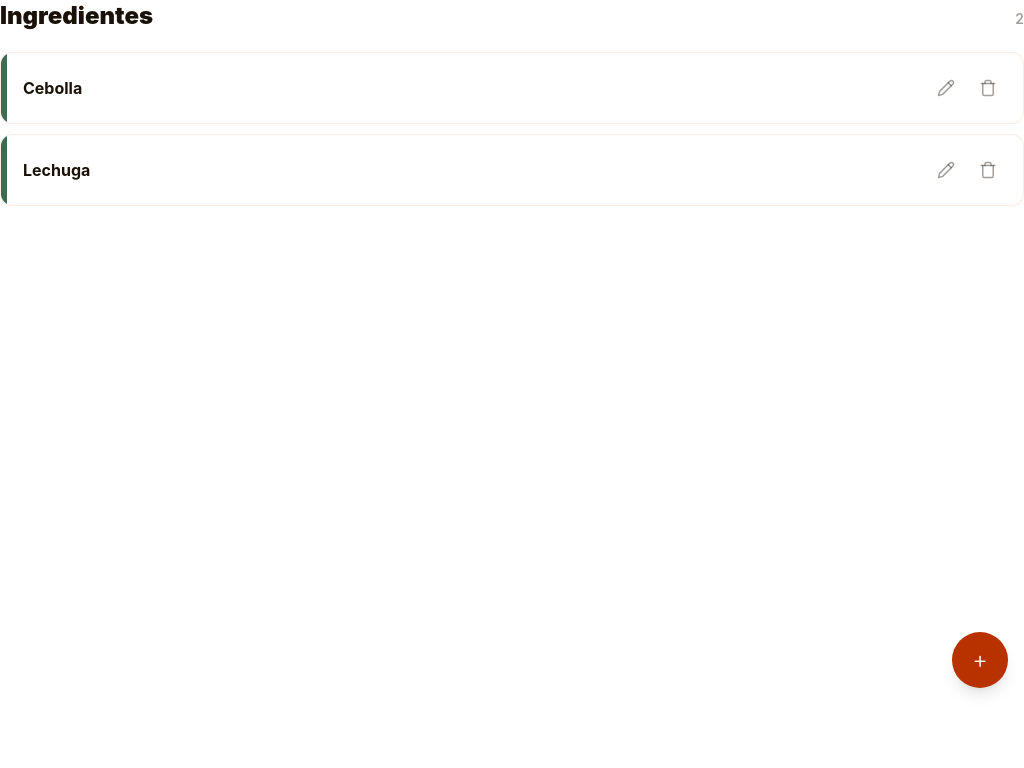
Test: IngredientsPage › closes dialog when cancel is clicked
The width and height of the screenshot is (1024, 768).
Check: the text "Cebolla" is shown, box [23,78,82,98]
Click the button named "Eliminar Cebolla".
click(988, 88)  # box [969,69,1007,107]
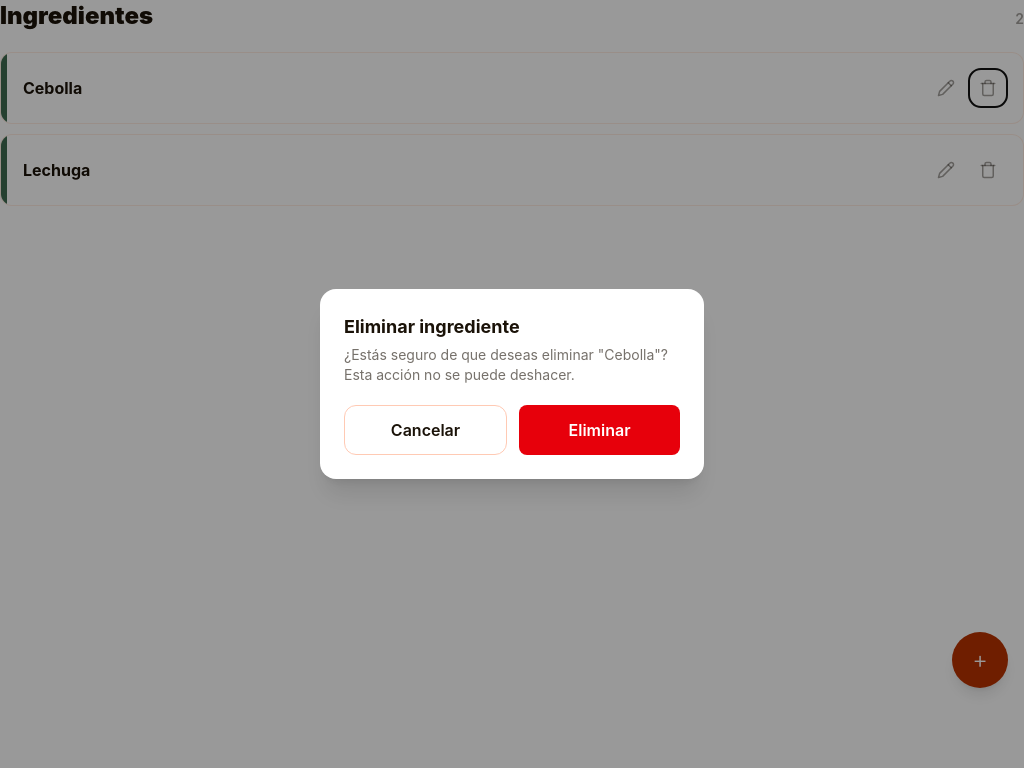
Check: the dialog is shown
Click the button "Cancelar".
click(426, 430)  # box [344,405,507,455]
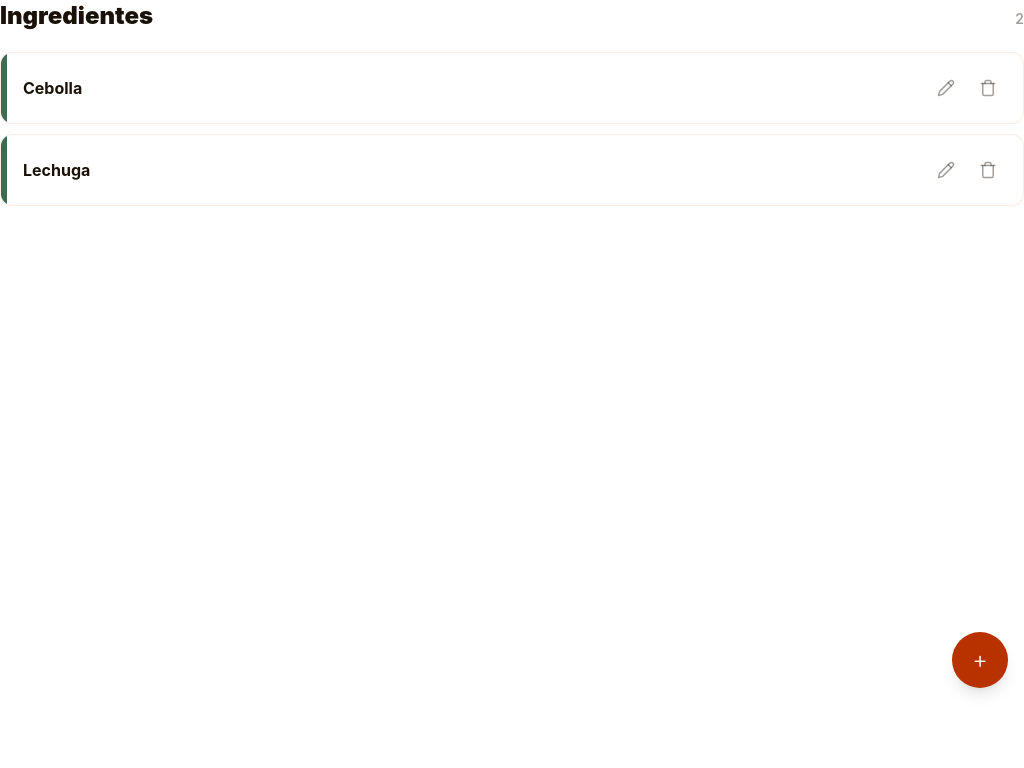
Check: the dialog is gone
